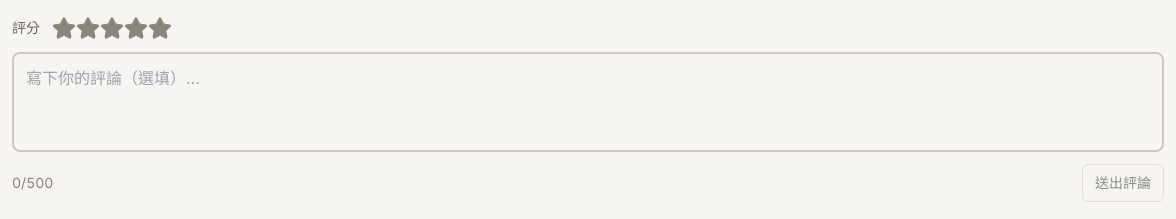
CommentForm › 送出中顯示提示並停用按鈕，避免重複送出
Click the 3rd icon. click: (112, 28)
box: [100,16,124,40]
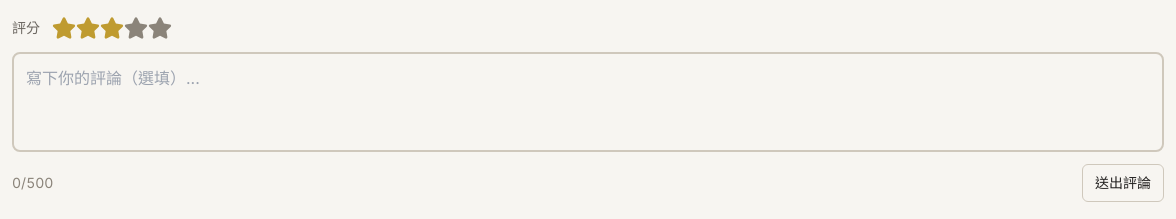
Click the button "送出評論". click: (1123, 183)
box: [1082,164,1164,202]
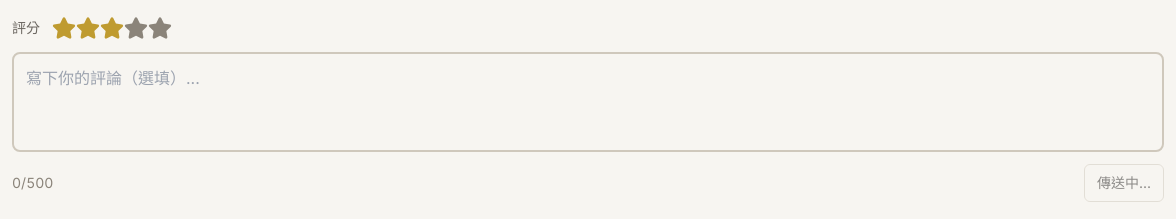
Expected: the button "傳送中..." is disabled
Click the button "傳送中...". click: (1124, 183)
box: [1084,164,1164,202]
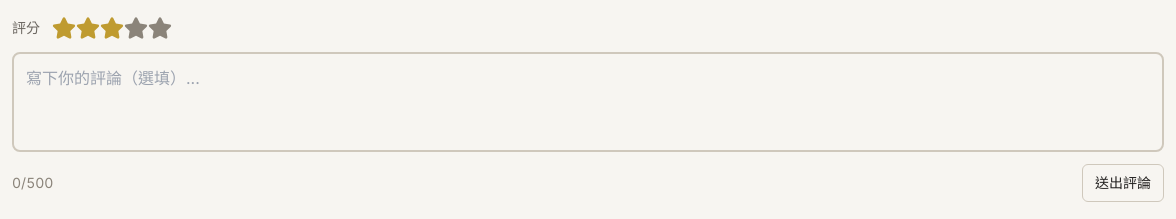
Expected: the button "送出評論" is enabled, [1082,164,1164,202]
